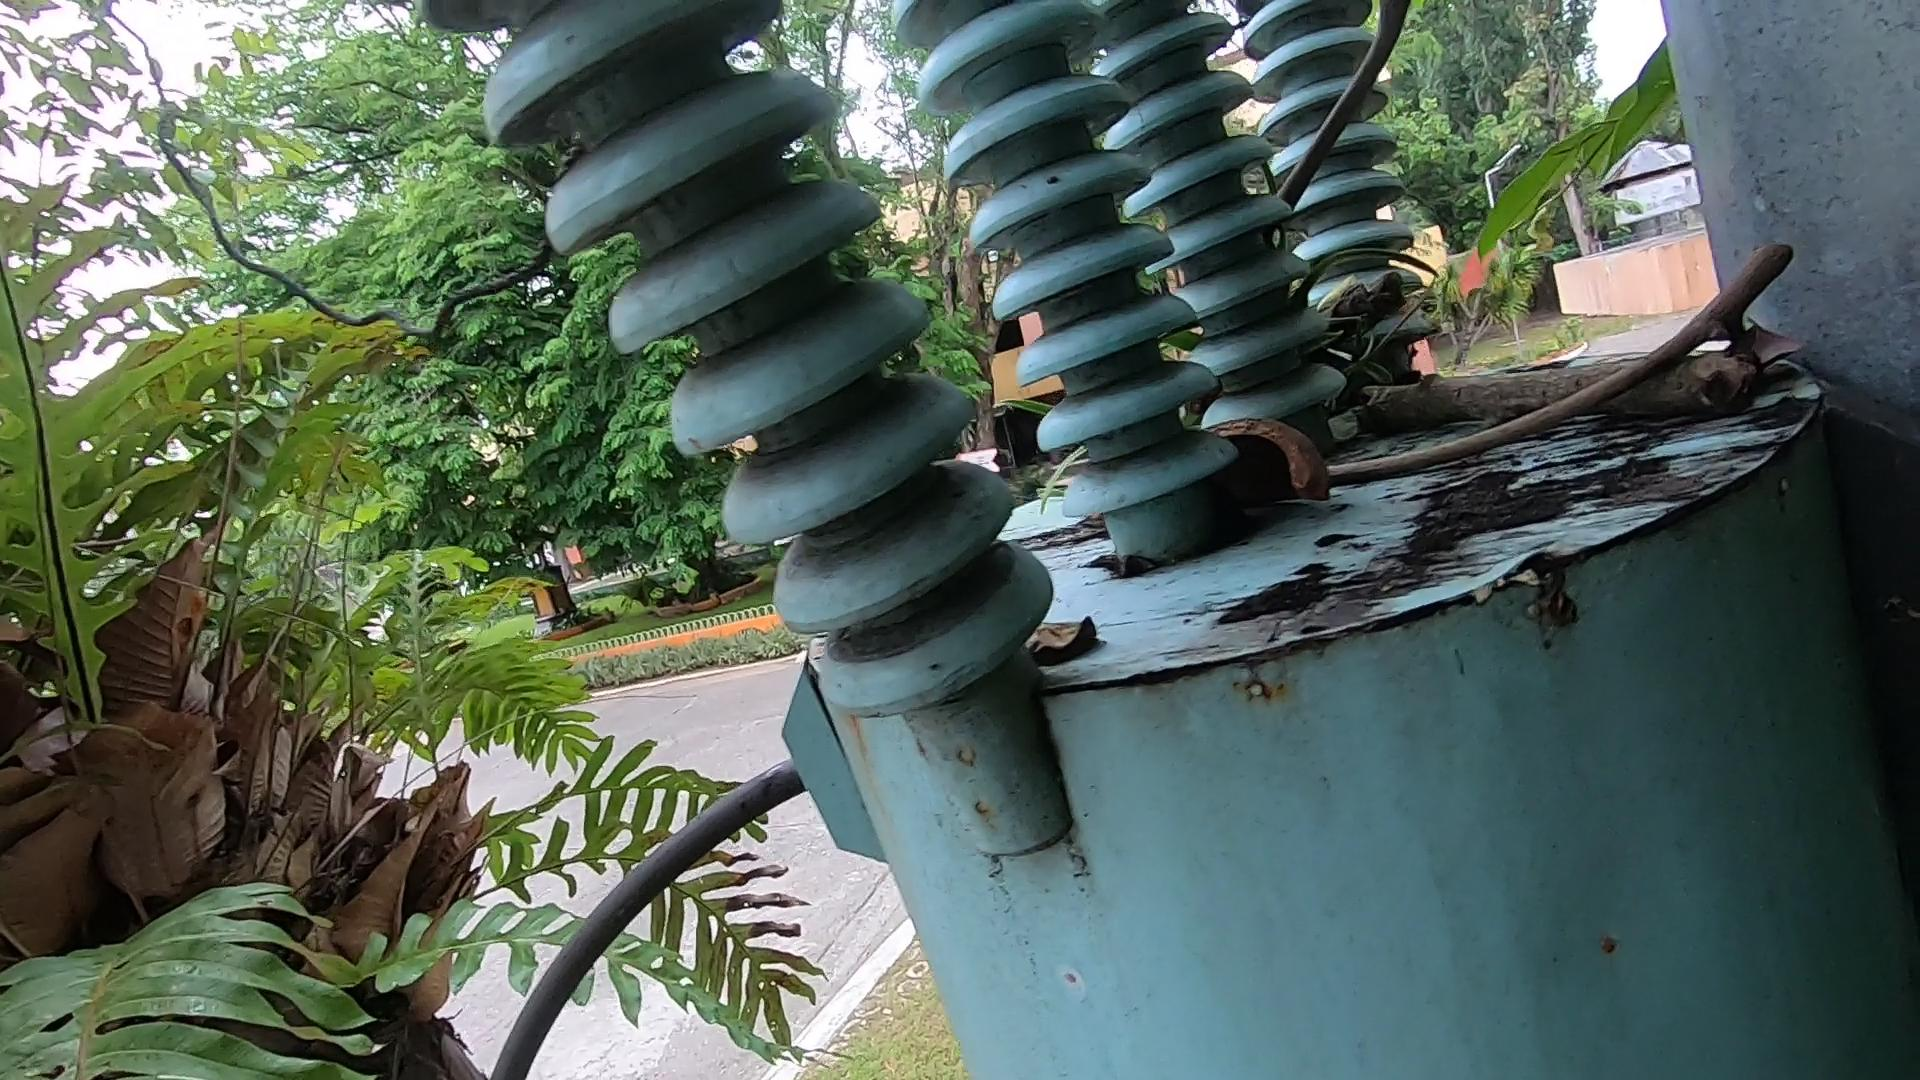branch with leaves: (1298, 214, 1785, 463)
leaf: (1004, 576, 1141, 673)
mahogany fruit: (1224, 388, 1354, 549)
tree branch: (1278, 258, 1865, 462), (1258, 1, 1419, 237)
